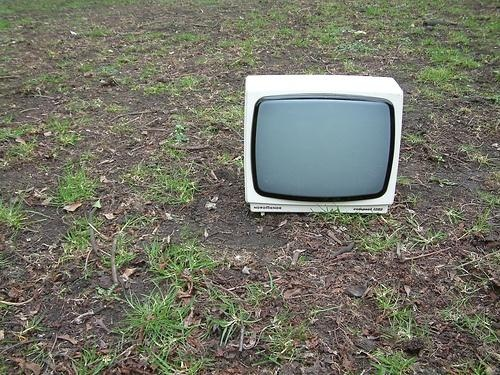tvmonitor: (242, 74, 404, 220)
